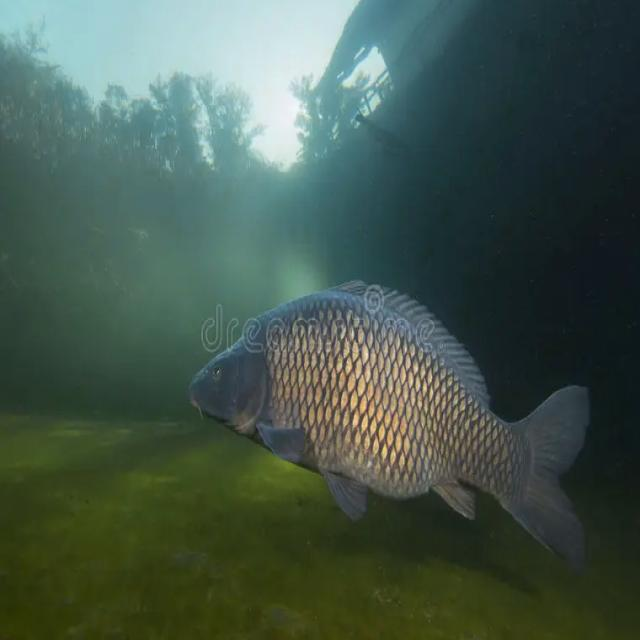Common carp: (187, 279, 591, 572)
